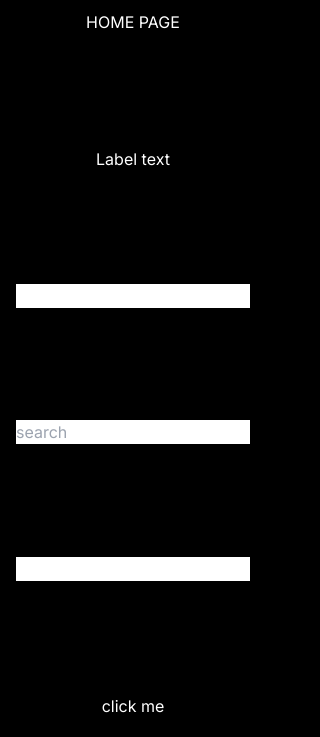
Test: Home Page › Behaviour › should find show txt button and find new text
The width and height of the screenshot is (320, 737).
Check: the text "Show text" is not shown
Click the button "click me": point(133, 706) [102,694,164,718]
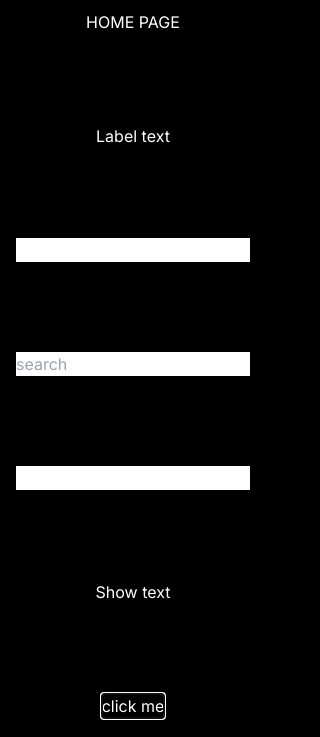
Check: the text "Show text" is shown, box [96,580,170,604]
